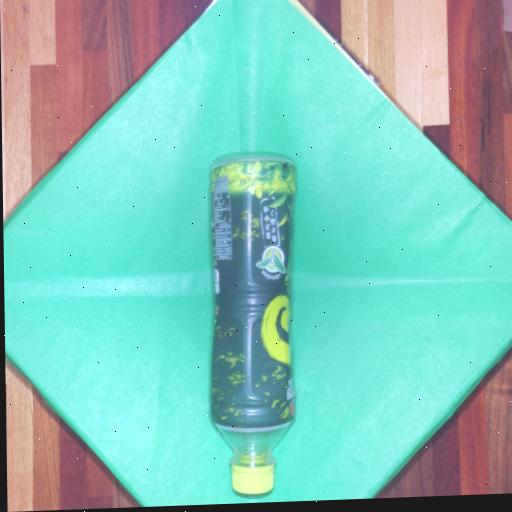bottle: (200, 152, 302, 500)
